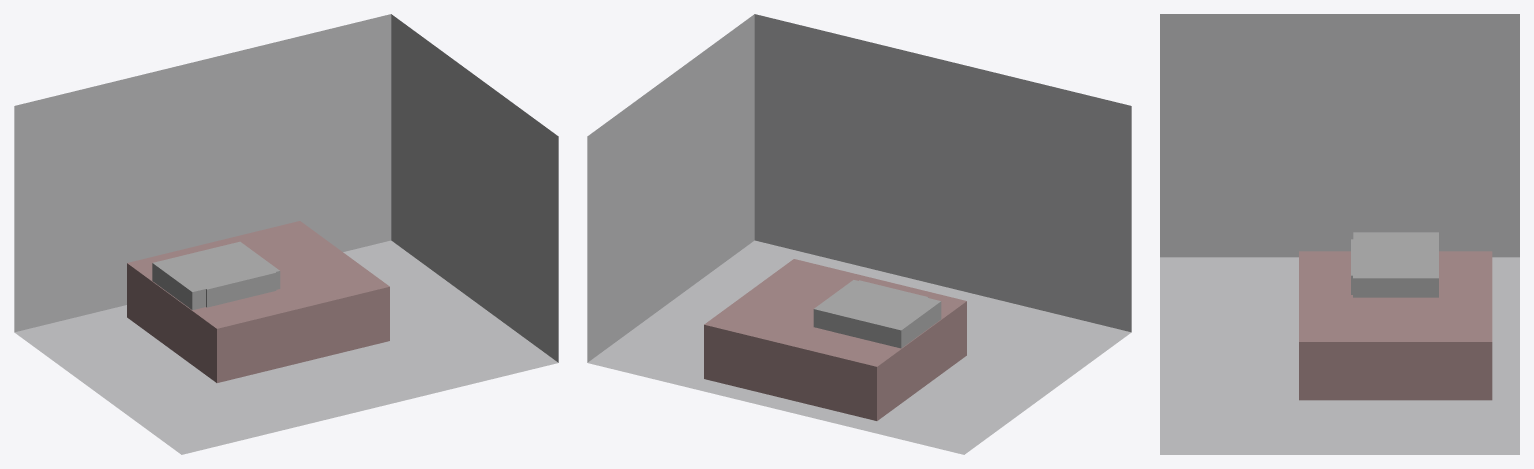
File: optimised_layout.glb
3 renders of one model, left to right at view 1: azimuth 30°, elevation 25°; view 2: azimuth 150°, elevation 25°; view 3: azimuth 270°, elevation 25°, orthographic. The views are drawn at different scales.
Parts seen in each view (by area): view 1: room, bed, bookShelf, studyTable, tableLamp; view 2: room, bed, bookShelf, tableLamp, studyTable; view 3: room, bed, tableLamp, studyTable, bookShelf.
Part boxes in pixels (<box>): room: <box>14,14,558,454</box>; bed: <box>127,221,389,382</box>; bookShelf: <box>152,255,260,310</box>; studyTable: <box>167,243,276,307</box>; tableLamp: <box>171,241,280,289</box>; room: <box>587,14,1131,454</box>; bed: <box>704,259,966,420</box>; bookShelf: <box>832,284,941,348</box>; tableLamp: <box>813,280,922,331</box>; studyTable: <box>819,280,928,325</box>; room: <box>1160,14,1519,454</box>; bed: <box>1299,251,1492,400</box>; tableLamp: <box>1353,242,1438,297</box>; studyTable: <box>1351,239,1436,294</box>; bookShelf: <box>1353,232,1438,262</box>.
Bounding box in the file's own units: 4.36 × 2.5 × 3.35.
